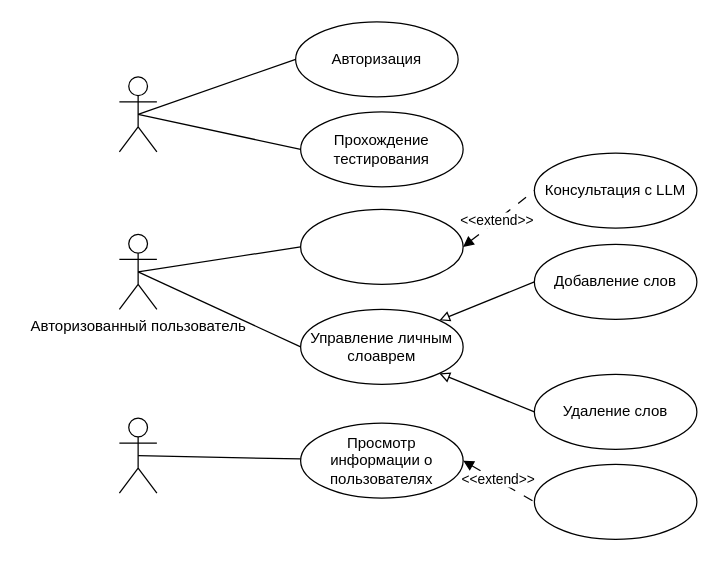
Some shapes in this 719 by 561 pixel diagram are drawn without their labels. Each missing label, with the centre of its shape:
"Администратор" goes at point (137, 455).
"Изменение информации о пользователе" goes at point (615, 501).
"Неавторизованный пользователь" goes at point (137, 114).
"Прохождение занятий" goes at point (381, 246).
